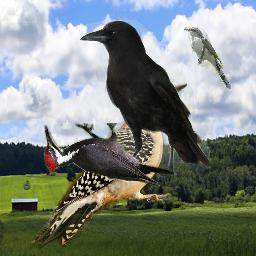Crow: (78, 20, 212, 180)
Cuckoo: (184, 27, 231, 89)
Woodpecker: (30, 83, 187, 251), (44, 123, 174, 186)
